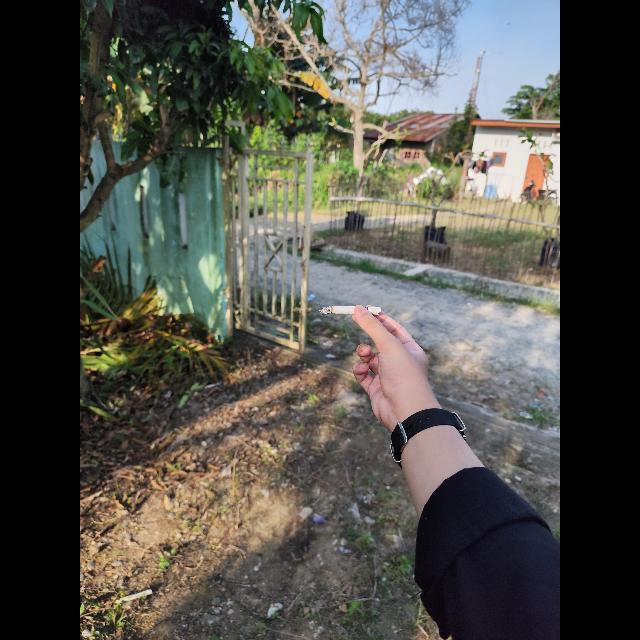rokok: (317, 304, 387, 320)
